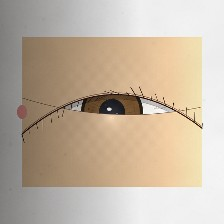pinguecula_lesion: (35, 92, 77, 126)
